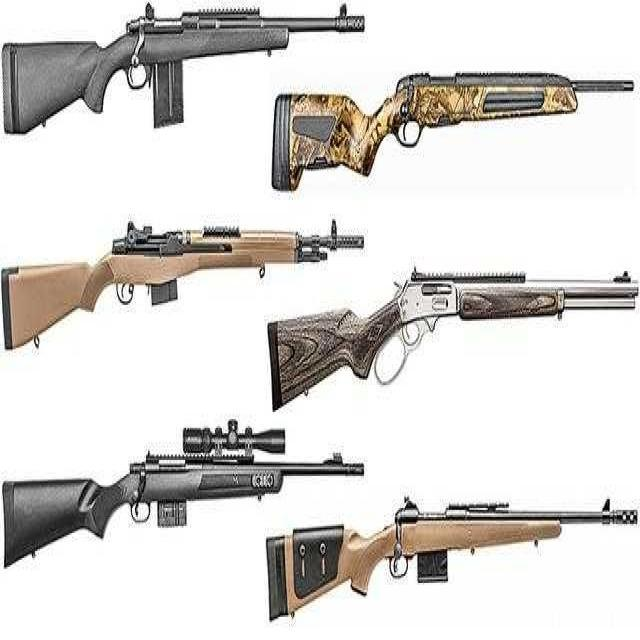weapon: (0, 404, 375, 584), (0, 189, 392, 360), (260, 255, 640, 400), (0, 0, 370, 146), (258, 501, 640, 640), (268, 70, 637, 186)
